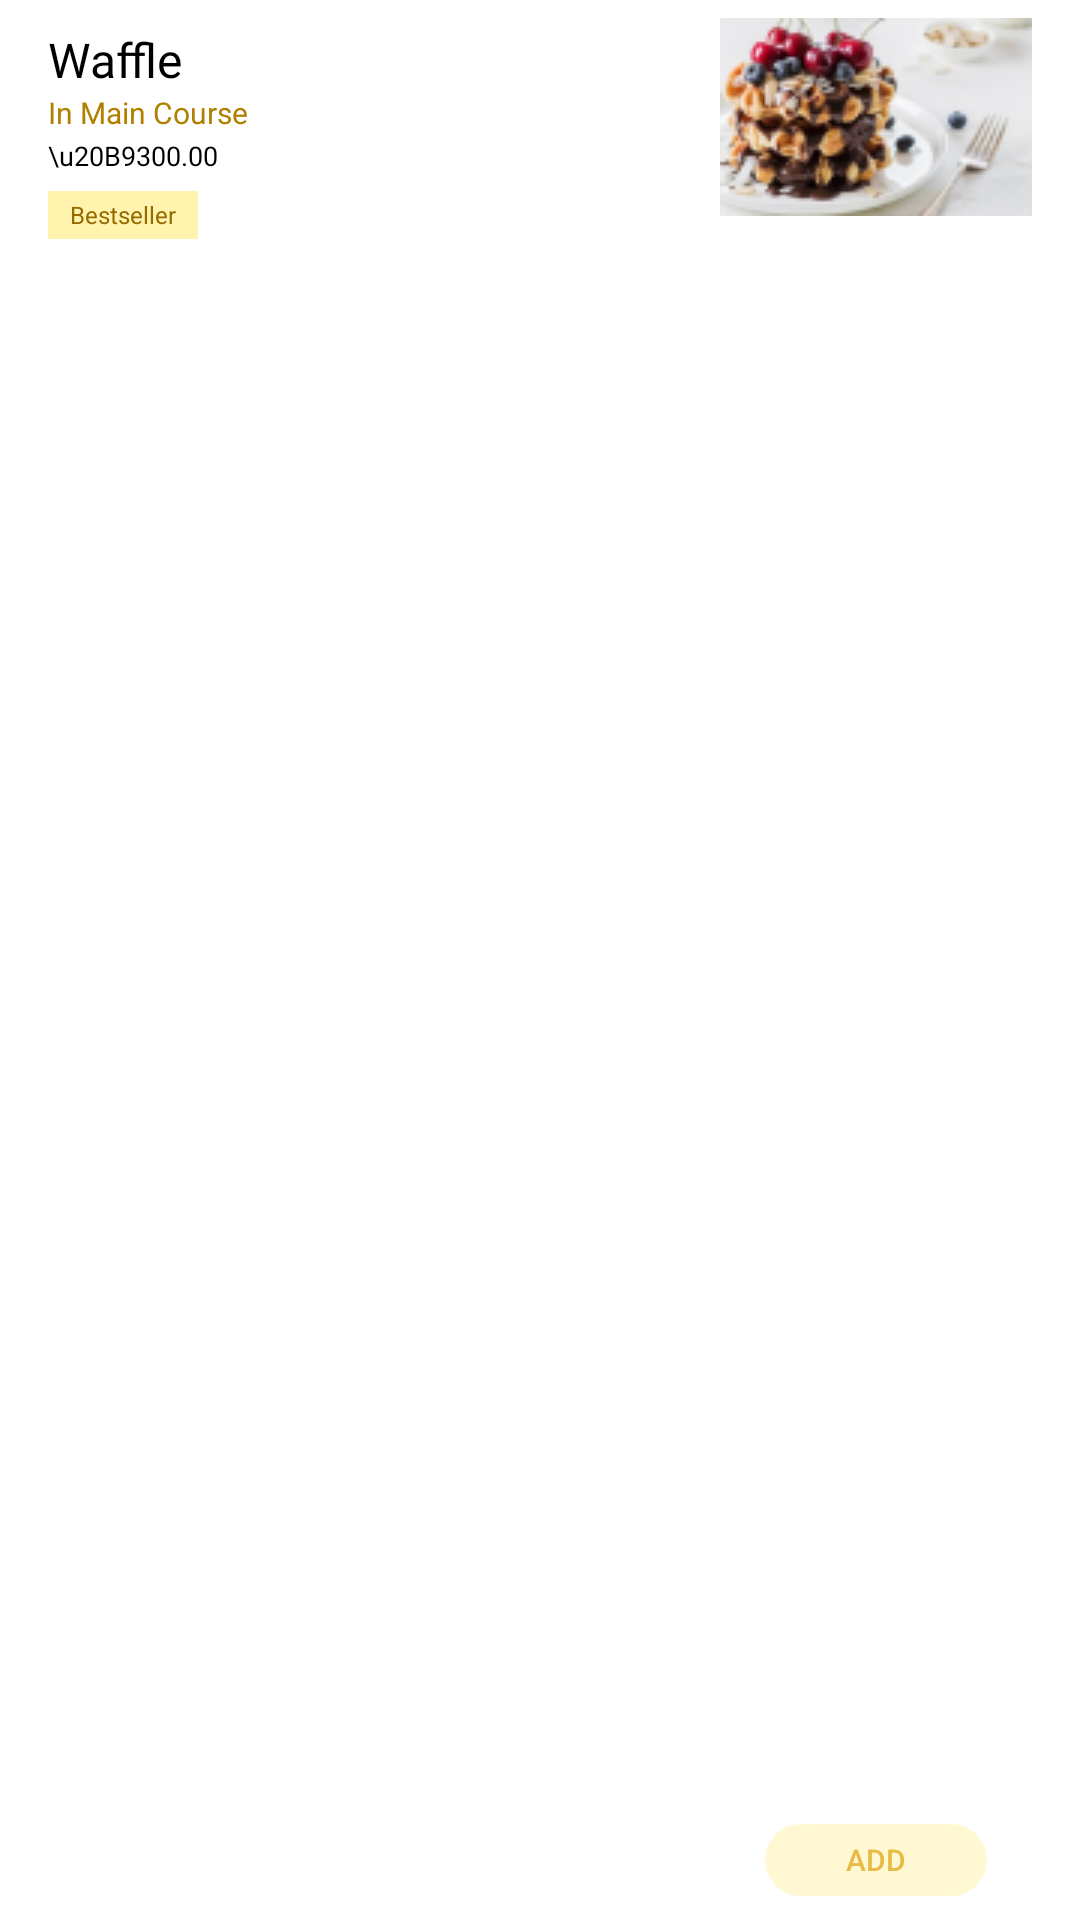

Icon bounding boxes for this 1080*1920 phone screenshot, format region(x1, y1, x2, y2):
food: region(720, 18, 1032, 216)
